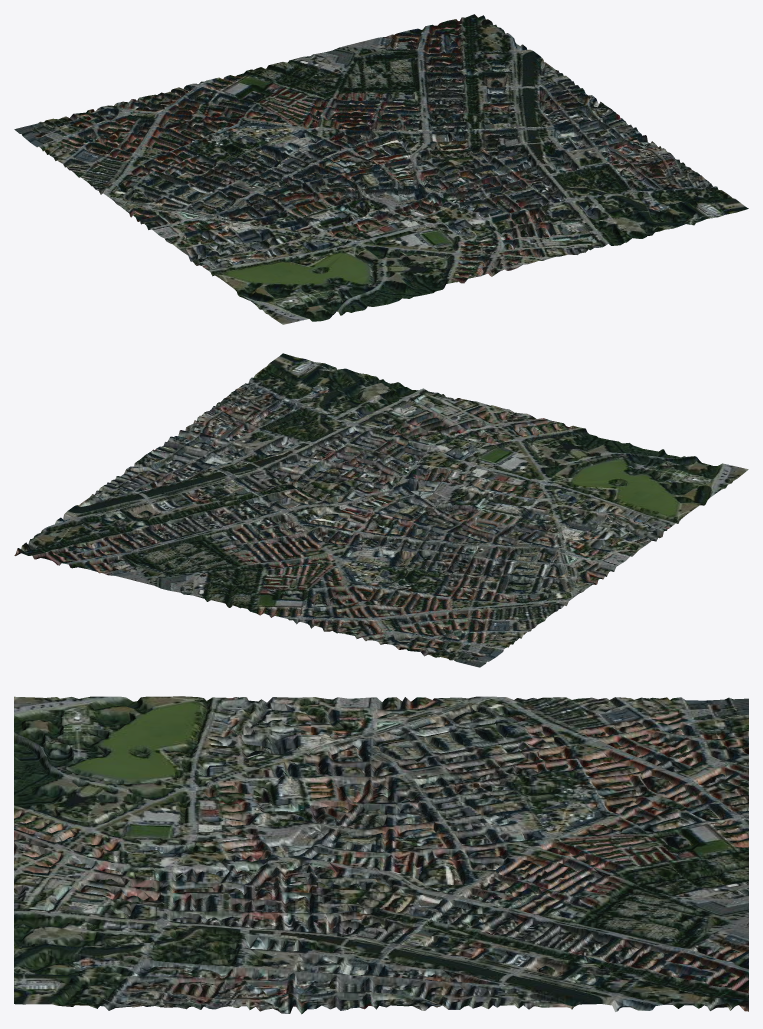
Rendered from map_10_250_425.dae.
3 views of the same model, one above another, from view 1: azimuth 30°, elevation 25°; view 2: azimuth 150°, elevation 25°; view 3: azimuth 270°, elevation 25° (orthographic). The views are drawn at different scales.
Visible parts, largest first — view 1: Ter0; view 2: Ter0; view 3: Ter0.
Part boxes in pixels (box(x1,y1,x2,y2)): Ter0: box(14, 14, 748, 324); Ter0: box(14, 353, 748, 667); Ter0: box(14, 696, 748, 1014).
Bounding box in the file's own units: 2044 × 2044 × 74.01.
Materials: 3 (3 with a texture image).
